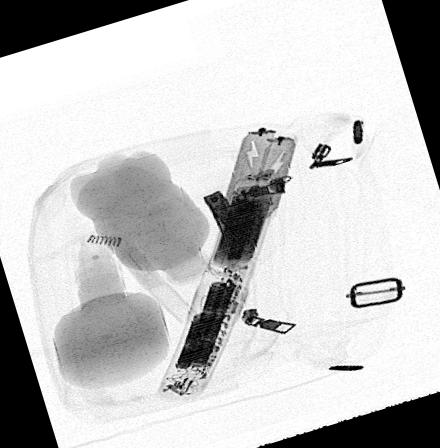Baton: (153, 124, 299, 403)
